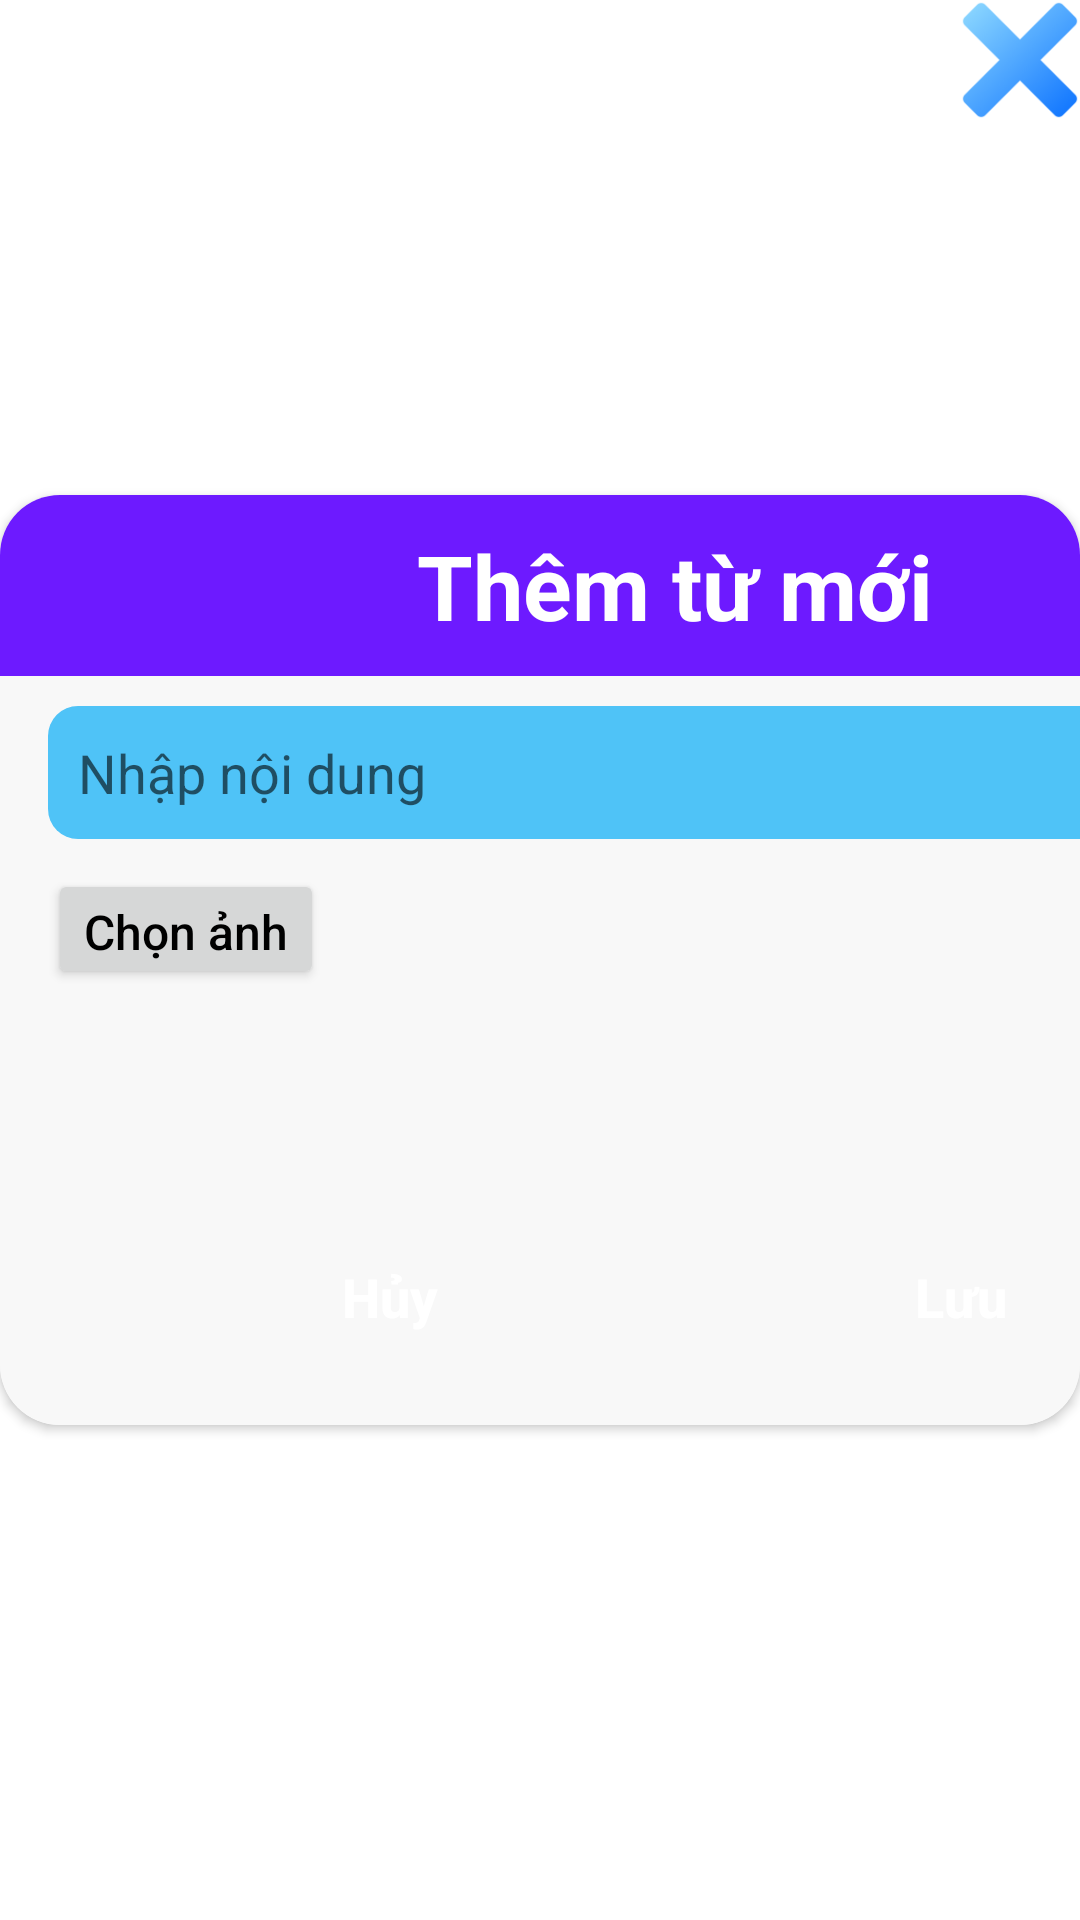

Point at icon controls on the screen. Image size 1080x1920, points as (x,y).
Cancel: (1020,60)
